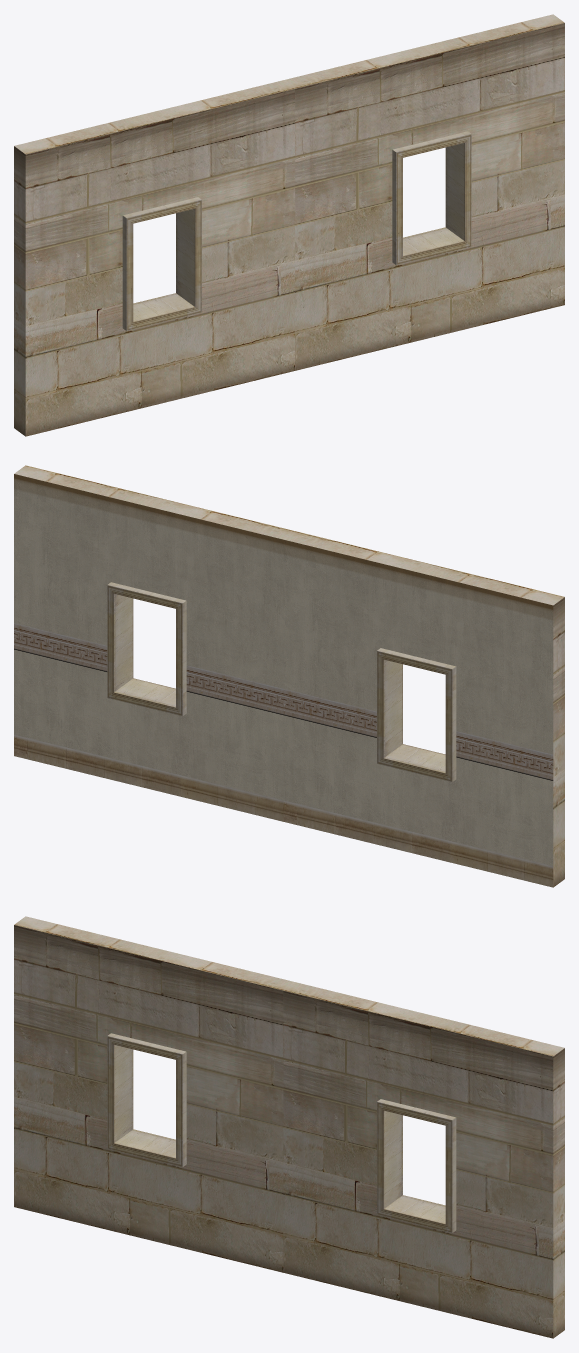
The model's file is svspartawindow6.dae.
3 views of the same model, one above another, from view 1: azimuth 30°, elevation 25°; view 2: azimuth 150°, elevation 25°; view 3: azimuth 330°, elevation 25° (orthographic).
Parts seen in each view (by area): view 1: unnamed_object6_sep67-0; view 2: unnamed_object6_sep67-0; view 3: unnamed_object6_sep67-0.
Part boxes in pixels (x1=…): unnamed_object6_sep67-0: x1=14, y1=14, x2=564, y2=436; unnamed_object6_sep67-0: x1=14, y1=465, x2=564, y2=887; unnamed_object6_sep67-0: x1=14, y1=916, x2=564, y2=1338.
Size of the model in its own units: 800 by 400 by 50.
